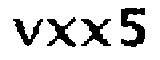5: (119, 4, 147, 51)
v: (9, 17, 44, 48)
x: (44, 16, 78, 49), (80, 17, 112, 51)
